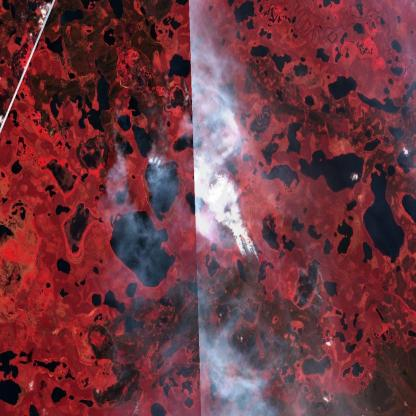fire: (82, 53, 192, 170), (297, 260, 328, 335), (233, 228, 265, 281)
